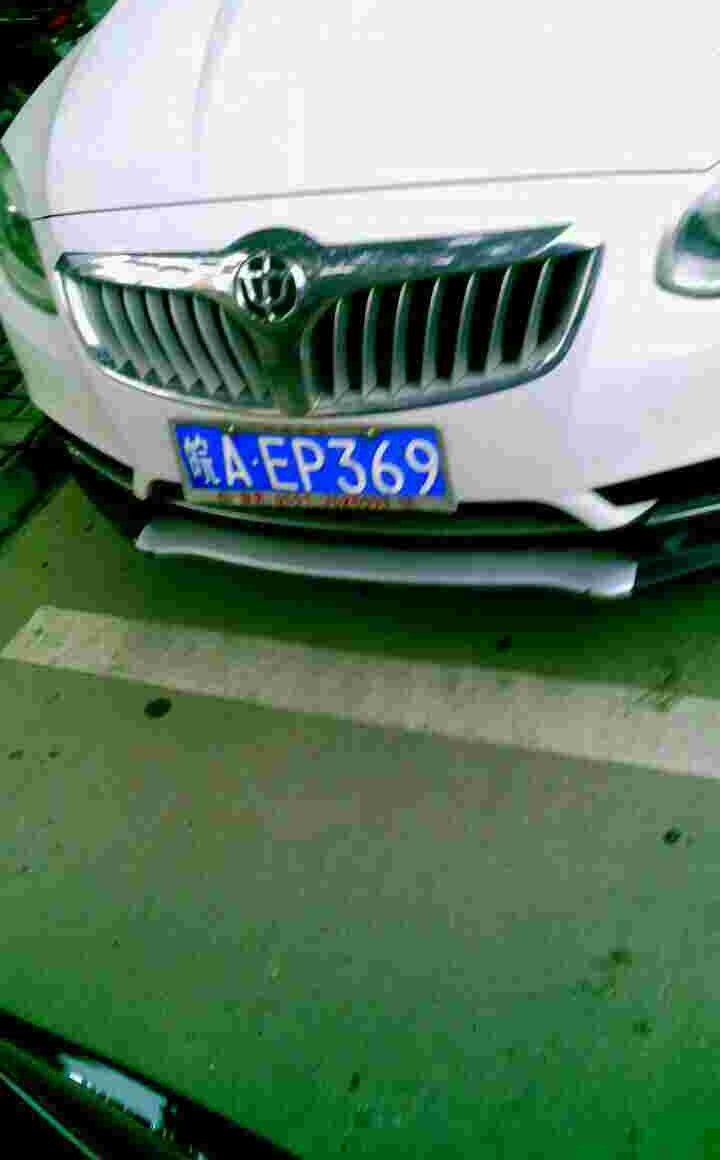license_plate: (182, 425, 452, 505)
